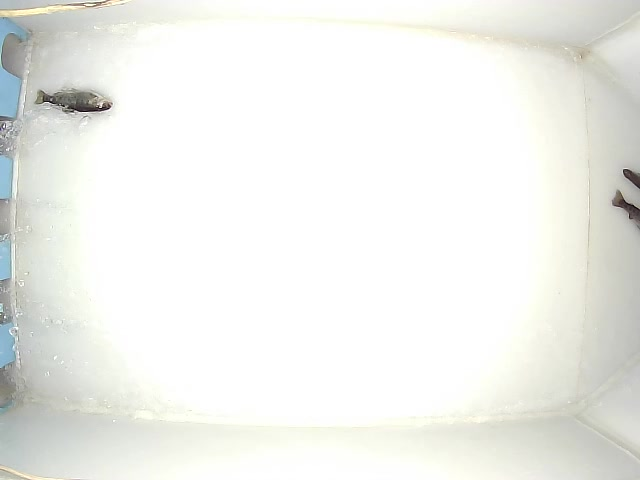fish: (33, 86, 114, 115)
